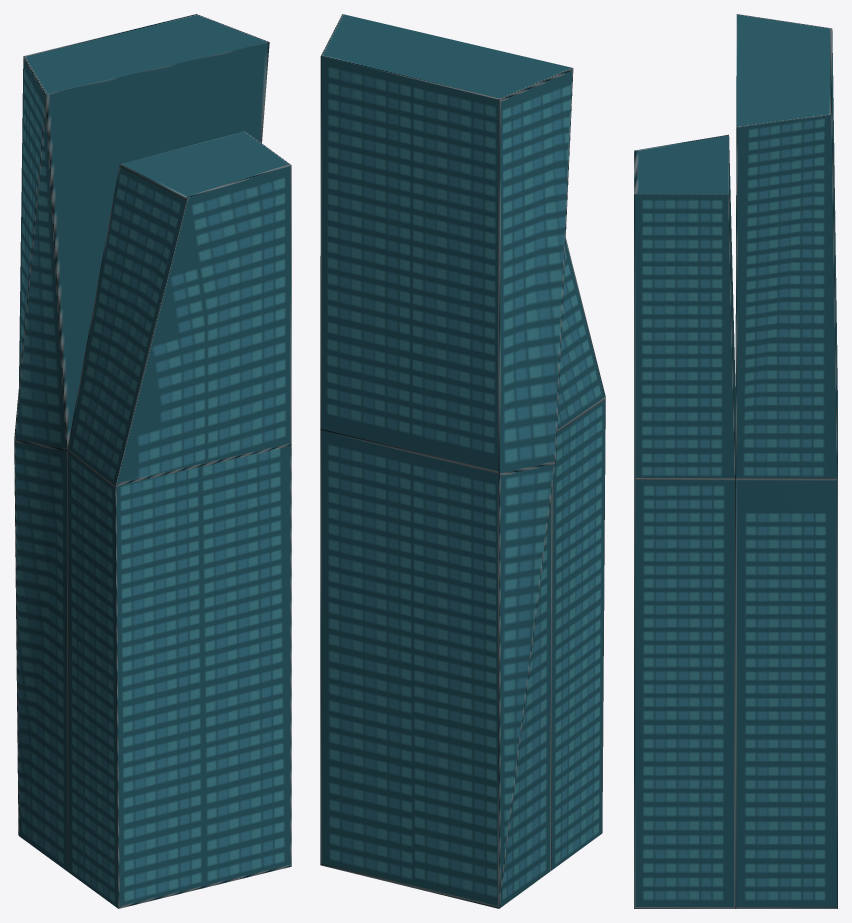
The model's file is boAWhole.fbx.
The picture shows the model from 3 angles, left to right: view 1: azimuth 30°, elevation 25°; view 2: azimuth 150°, elevation 25°; view 3: azimuth 270°, elevation 25°; orthographic projection. The views are drawn at different scales.
Visible parts, largest first — view 1: BankOfAmerica; view 2: BankOfAmerica; view 3: BankOfAmerica.
Boxes of the visible parts, box(x1,y1,x2,y2) form: BankOfAmerica: box(14, 14, 291, 908); BankOfAmerica: box(320, 14, 605, 908); BankOfAmerica: box(634, 14, 837, 908).
Size of the model in its own units: 0.1222 by 0.396 by 0.0917.
1 material, 1 textured.
